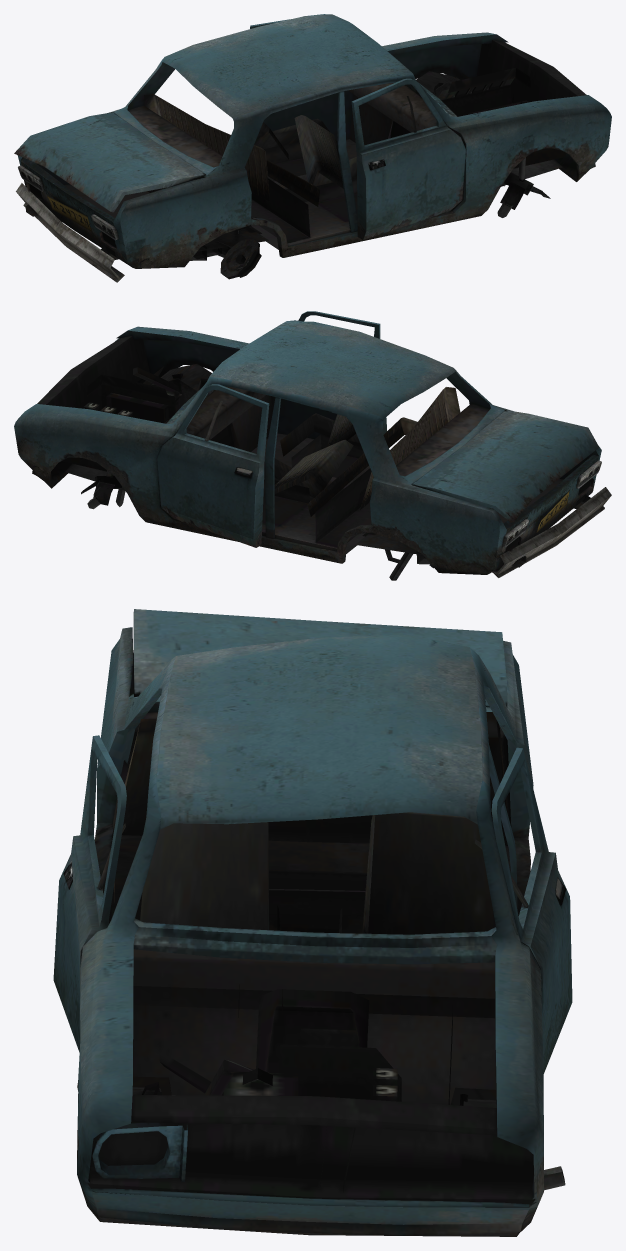
Rendered from voiture_cassee.glb.
3 views of the same model, one above another, from view 1: azimuth 30°, elevation 25°; view 2: azimuth 150°, elevation 25°; view 3: azimuth 270°, elevation 25° (orthographic). The views are drawn at different scales.
Visible parts, largest first — view 1: car003b; view 2: car003b; view 3: car003b.
Part boxes in pixels (<box>): car003b: <box>14,14,611,282</box>; car003b: <box>14,311,611,580</box>; car003b: <box>53,609,572,1236</box>.
Bounding box in the file's own units: 183 × 57.73 × 82.7.
Materials: 1 (1 with a texture image).
